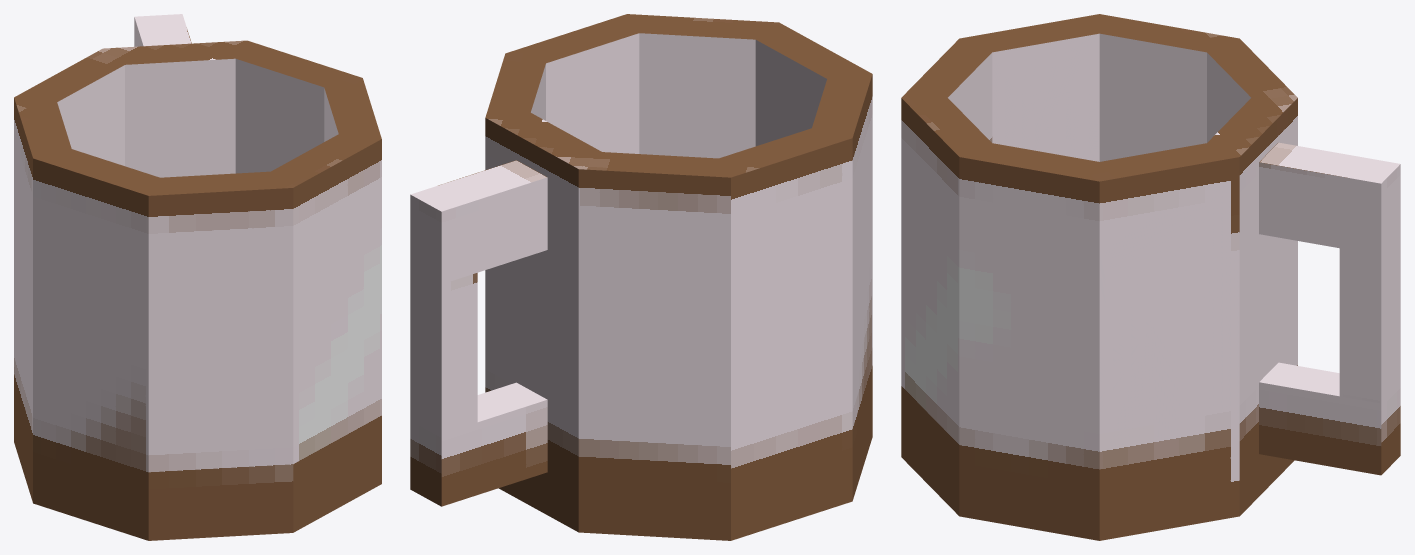
Rendered from broken_mug.glb.
The picture shows the model from 3 angles, left to right: view 1: azimuth 30°, elevation 25°; view 2: azimuth 150°, elevation 25°; view 3: azimuth 270°, elevation 25°; orthographic projection. The views are drawn at different scales.
Visible parts, largest first — view 1: Mug.mug.001, Mug.mug; view 2: Mug.mug, Mug.mug.001; view 3: Mug.mug, Mug.mug.001.
Boxes of the visible parts, x1,y1,x2,y2 form: Mug.mug.001: [25, 78, 381, 540]; Mug.mug: [14, 14, 361, 477]; Mug.mug: [410, 53, 860, 540]; Mug.mug.001: [505, 14, 872, 517]; Mug.mug: [1043, 14, 1400, 530]; Mug.mug.001: [901, 14, 1157, 540].
Size of the model in its own units: 0.4994 by 0.4994 by 0.6289.
Materials: 1 (1 with a texture image).
